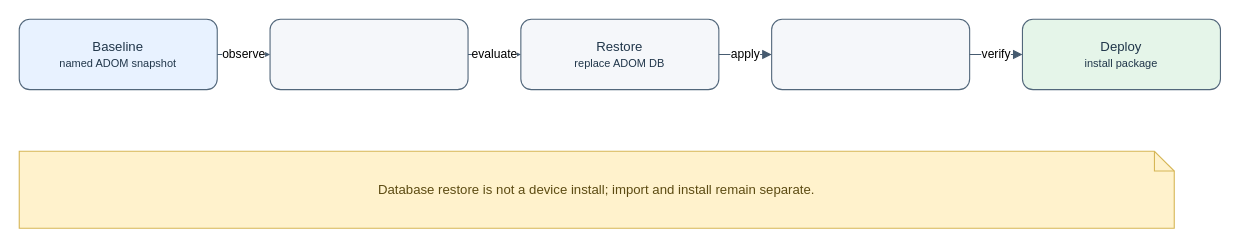
Image size: 1240x248. Some labels were removed from this diagram. Here are the shapes that lost their labels. From the top down, the box of each, then its label:
(269, 18, 468, 90): Revision diff compare DB state
(771, 18, 970, 90): Synchronize import device config
